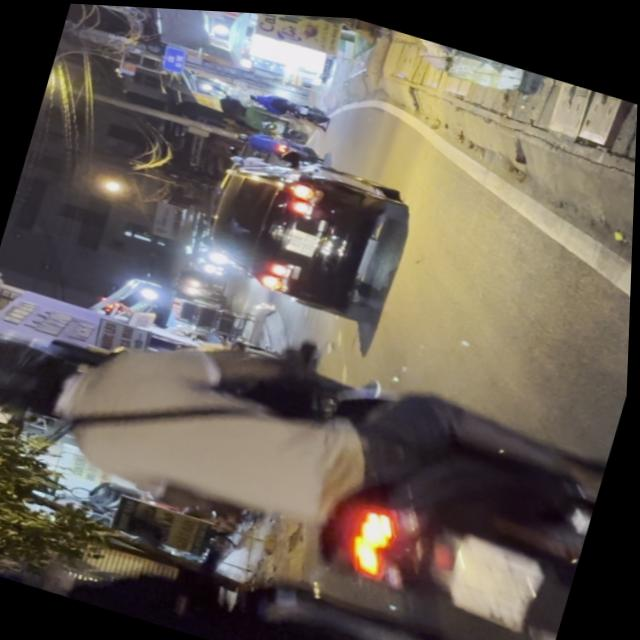helmet: (0, 326, 90, 433), (0, 554, 71, 595)
licenseplate: (0, 247, 622, 640), (0, 474, 560, 640)
nohelmet: (443, 527, 546, 625)
